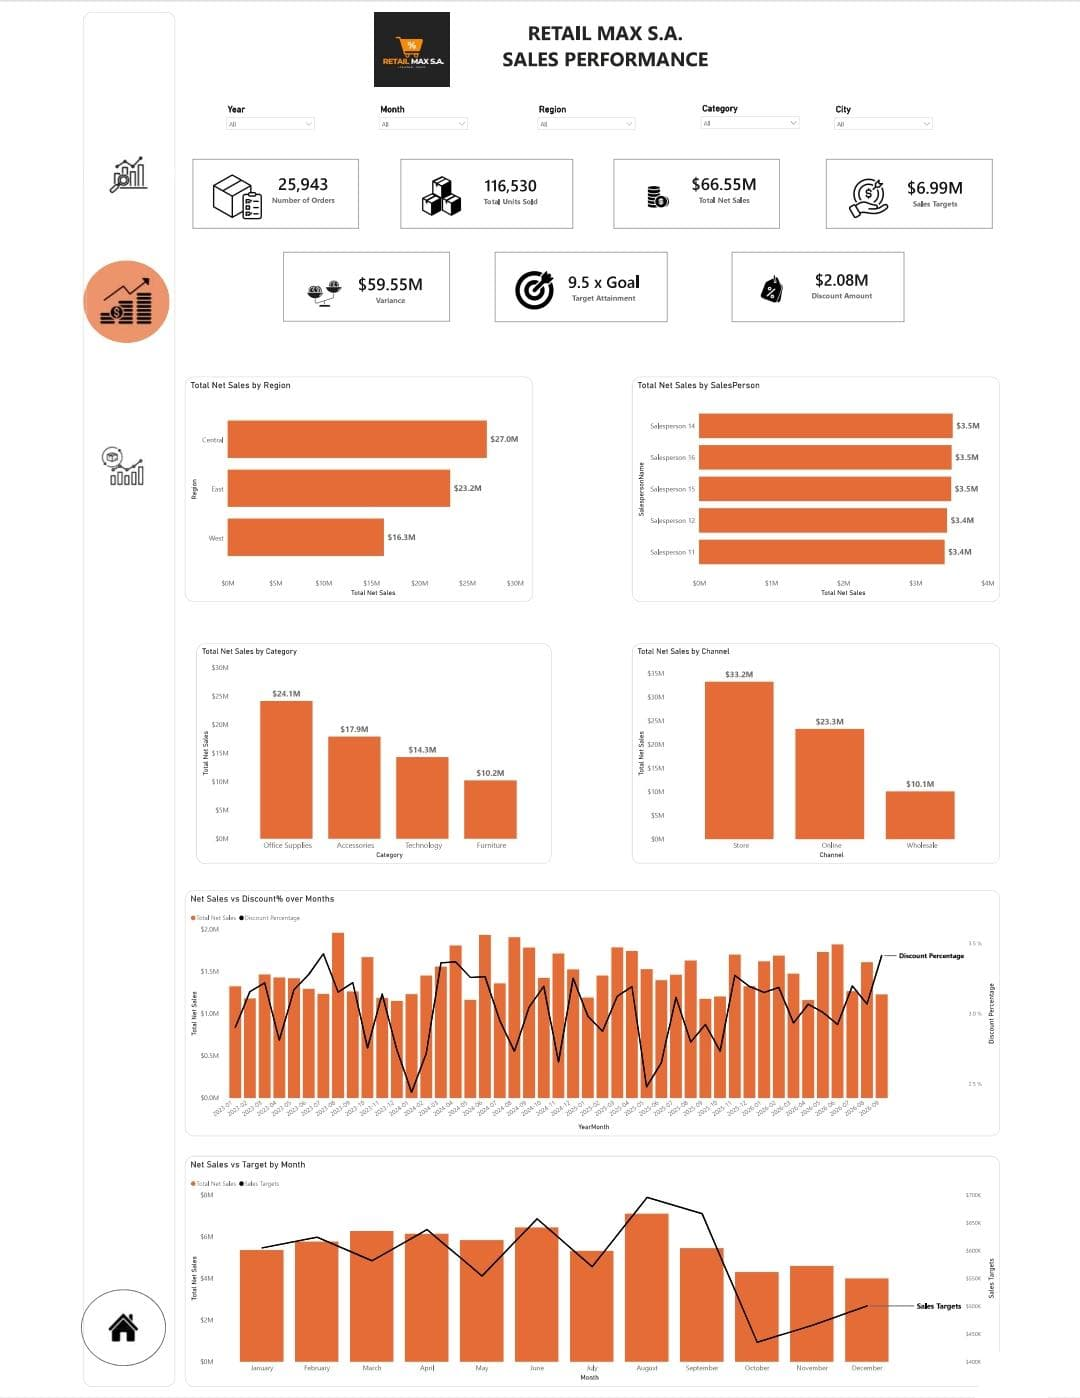

What the dashboard file says about the page in this screenshot:
{"tool":"powerbi","page":{"name":"Sales Performance","canvas":[2000,2990],"ordinal":2},"visuals":[{"type":"shape","box":[6.6,0,200,2990],"z":0,"group":"g1"},{"type":"image","box":[590,0,263.4,162.4],"z":0},{"type":"textbox","box":[835,10,614.5,140.6],"z":1000},{"type":"actionButton","box":[5.7,257.5,200,192.5],"z":1000,"group":"g1"},{"type":"slicer","fields":{"Values":["Products.Category"]},"box":[1340,192.5,233.9,83.9],"z":2000},{"type":"actionButton","box":[6.6,540,187.5,180],"z":2000,"group":"g1"},{"type":"slicer","fields":{"Values":["Region.Region"]},"box":[985,195,232.1,83.9],"z":3000},{"type":"actionButton","box":[7.5,908.5,185,165.4],"z":3000,"group":"g1"},{"type":"slicer","fields":{"Values":["Calendar.MonthName"]},"box":[640,195,212.5,83.9],"z":4000},{"type":"actionButton","box":[1.6,2777.5,185,167.8],"z":4000,"group":"g1"},{"type":"cardVisual","title":"Gross Profit ","fields":{"Data":["Measuress.Variance vs Target"]},"box":[425,505,395.5,185.1],"z":5000},{"type":"cardVisual","title":"Gross Profit ","fields":{"Data":["Measuress.Number of Orders"]},"box":[227.5,302.5,395.5,185.1],"z":6000},{"type":"cardVisual","title":"Gross Profit ","fields":{"Data":["Measuress.Target Attainment Multiplier"]},"box":[885,505,408.7,185.5],"z":7000},{"type":"cardVisual","title":"Gross Profit ","fields":{"Data":["Measuress.Sales Targets"]},"box":[1605,302.5,395.5,185.1],"z":8000},{"type":"slicer","fields":{"Values":["Customers.City"]},"box":[1630,195,233.9,83.9],"z":9000},{"type":"slicer","fields":{"Values":["Calendar.Year"]},"box":[307.5,195,212.5,83.9],"z":10000},{"type":"cardVisual","title":"Gross Profit ","fields":{"Data":["Measuress.Total Net Sales"]},"box":[1142.5,302.5,395.5,185.1],"z":11000},{"type":"cardVisual","title":"Gross Profit ","fields":{"Data":["Measuress.Total Units"]},"box":[680,302.5,408.7,185.5],"z":12000},{"type":"cardVisual","title":"Gross Profit ","fields":{"Data":["Measuress.Discount Amount"]},"box":[1400,505,408.7,185.5],"z":13000},{"type":"barChart","fields":{"Y":["Measuress.Total Net Sales"],"Category":["Region.Region"]},"box":[227.5,792.5,757.5,490],"z":14000},{"type":"barChart","title":"Total Net Sales by SalesPerson","fields":{"Y":["Measuress.Total Net Sales"],"Category":["Salespeople.SalespersonName"]},"box":[1200,792.5,800,490],"z":15000},{"type":"columnChart","fields":{"Y":["Measuress.Total Net Sales"],"Category":["Products.Category"]},"box":[252.5,1372.5,772.5,480],"z":16000},{"type":"columnChart","fields":{"Y":["Measuress.Total Net Sales"],"Category":["FactSales.Channel"]},"box":[1200,1372.5,800,480],"z":17000},{"type":"lineStackedColumnComboChart","title":"Net Sales vs Discount% over Months","fields":{"Y":["Measuress.Total Net Sales"],"Y2":["Measuress.Discount Percentage"],"Category":["Calendar.YearMonth"]},"box":[227.5,1910,1772.5,535],"z":18000},{"type":"lineStackedColumnComboChart","title":"Net Sales vs Target by Month","fields":{"Y":["Measuress.Total Net Sales"],"Y2":["Measuress.Sales Targets"],"Category":["Calendar.MonthName"]},"box":[227.5,2487.5,1772.5,502.5],"z":19000},{"type":"group","id":"g1","title":"Group 2","box":[1.6,0,205,2990],"z":20000}]}

Visuals, with their boxes on the page's 2000x2990 design canvas (x1, y1, x2, y2). These are canvas units, not pixel positions in the 1080x1398 screenshot, which may show the page scaled, cropped or inside an application window:
shape: crop(7, 0, 207, 2990)
image: crop(590, 0, 853, 162)
textbox: crop(835, 10, 1450, 151)
actionButton: crop(6, 258, 206, 450)
slicer - Products.Category: crop(1340, 192, 1574, 276)
actionButton: crop(7, 540, 194, 720)
slicer - Region.Region: crop(985, 195, 1217, 279)
actionButton: crop(8, 908, 192, 1074)
slicer - Calendar.MonthName: crop(640, 195, 852, 279)
actionButton: crop(2, 2778, 187, 2945)
"Gross Profit " cardVisual: crop(425, 505, 820, 690)
"Gross Profit " cardVisual: crop(228, 302, 623, 488)
"Gross Profit " cardVisual: crop(885, 505, 1294, 690)
"Gross Profit " cardVisual: crop(1605, 302, 2000, 488)
slicer - Customers.City: crop(1630, 195, 1864, 279)
slicer - Calendar.Year: crop(308, 195, 520, 279)
"Gross Profit " cardVisual: crop(1142, 302, 1538, 488)
"Gross Profit " cardVisual: crop(680, 302, 1089, 488)
"Gross Profit " cardVisual: crop(1400, 505, 1809, 690)
barChart - Measuress.Total Net Sales x Region.Region: crop(228, 792, 985, 1282)
"Total Net Sales by SalesPerson" barChart: crop(1200, 792, 2000, 1282)
columnChart - Measuress.Total Net Sales x Products.Category: crop(252, 1372, 1025, 1852)
columnChart - Measuress.Total Net Sales x FactSales.Channel: crop(1200, 1372, 2000, 1852)
"Net Sales vs Discount% over Months" lineStackedColumnComboChart: crop(228, 1910, 2000, 2445)
"Net Sales vs Target by Month" lineStackedColumnComboChart: crop(228, 2488, 2000, 2990)
"Group 2" group: crop(2, 0, 207, 2990)
